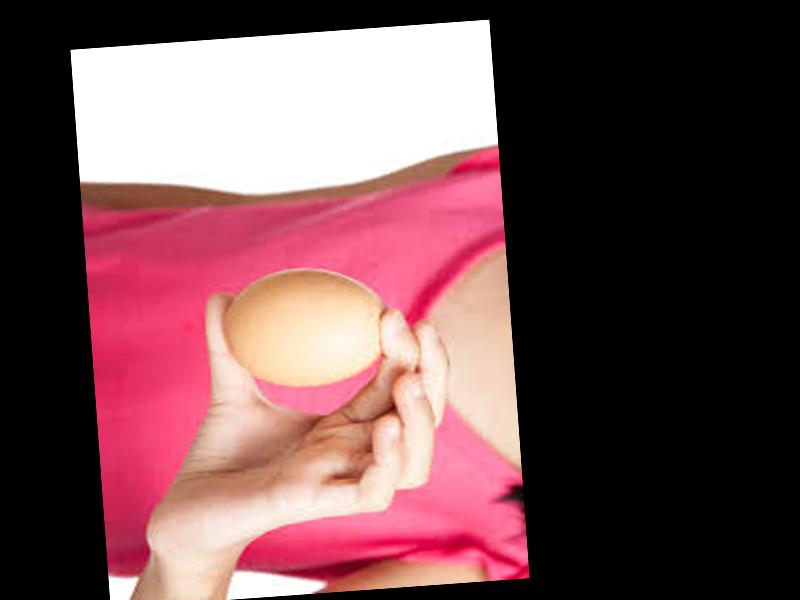Eggs: (222, 264, 395, 391)
